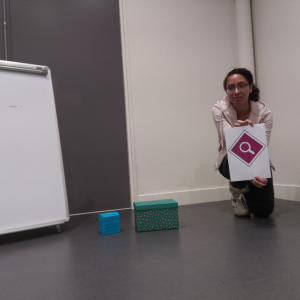big: (1, 63, 69, 236)
small: (134, 199, 179, 230), (97, 212, 121, 235)
